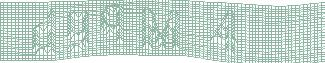4: (209, 9, 239, 57)
M: (141, 7, 182, 52)
d: (32, 8, 58, 57)
q: (98, 2, 126, 47)
y: (66, 10, 91, 53)
